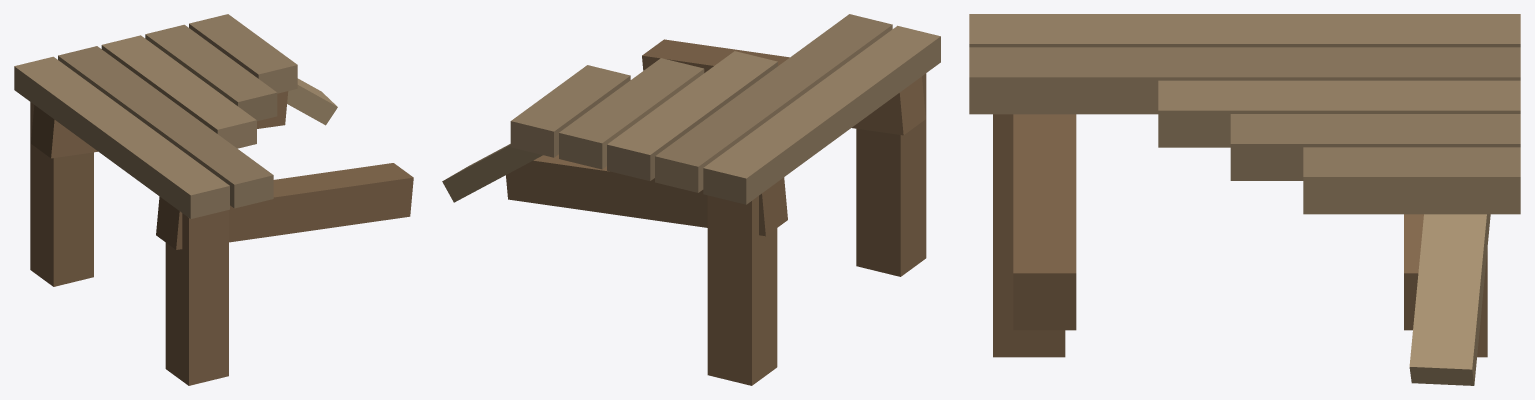
The model's file is broken-dock.glb.
3 renders of one model, left to right at view 1: azimuth 30°, elevation 25°; view 2: azimuth 150°, elevation 25°; view 3: azimuth 270°, elevation 25°, orthographic. The views are drawn at different scales.
Parts seen in each view (by area): view 1: broken-dock; view 2: broken-dock; view 3: broken-dock.
Boxes of the visible parts, x1,y1,x2,y2 form: broken-dock: (14,14,413,385); broken-dock: (442,14,940,385); broken-dock: (969,14,1520,385).
Size of the model in its own units: 1.67 by 1.08 by 1.75.
